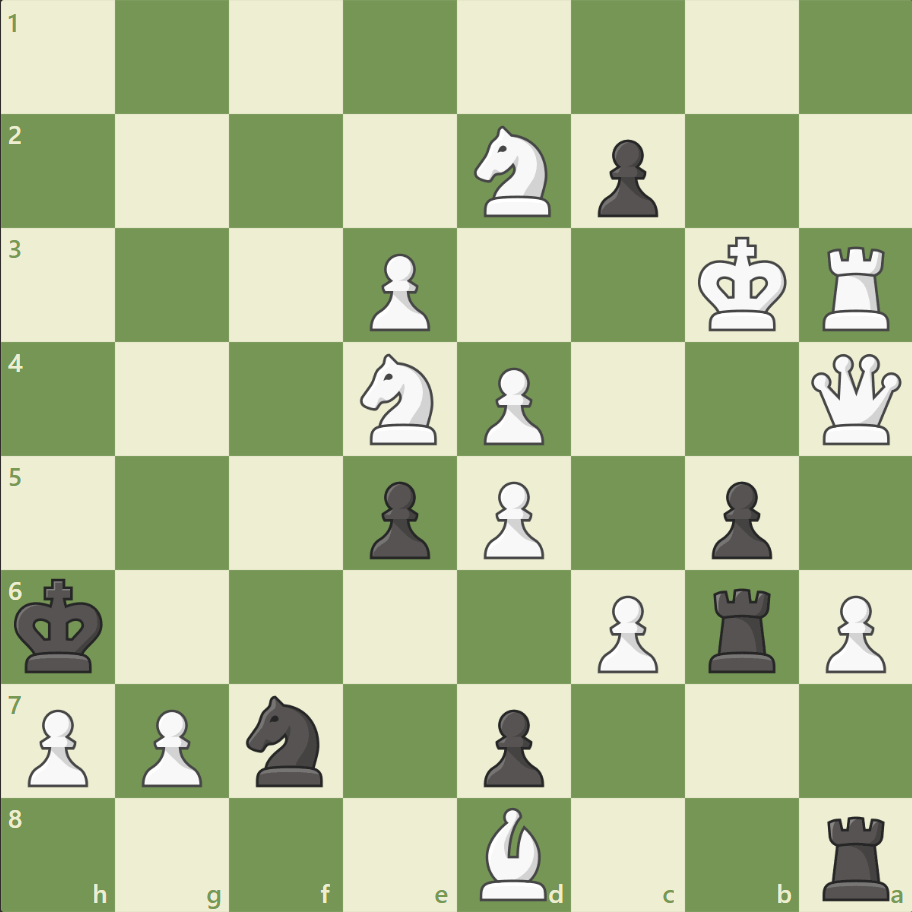B: (471, 801, 555, 904)
K: (692, 231, 792, 339)
N: (351, 348, 449, 450), (465, 121, 562, 223)
P: (133, 700, 208, 791), (20, 700, 95, 791), (474, 473, 549, 564), (474, 359, 549, 450), (815, 586, 889, 677), (588, 586, 662, 677), (361, 246, 435, 337)
Q: (805, 349, 904, 449)
R: (814, 239, 897, 336)
k: (11, 571, 111, 679)
n: (238, 688, 335, 791)
p: (474, 700, 549, 791), (701, 473, 776, 564), (361, 473, 435, 564), (588, 132, 662, 223)
r: (814, 806, 897, 904), (700, 579, 783, 676)
